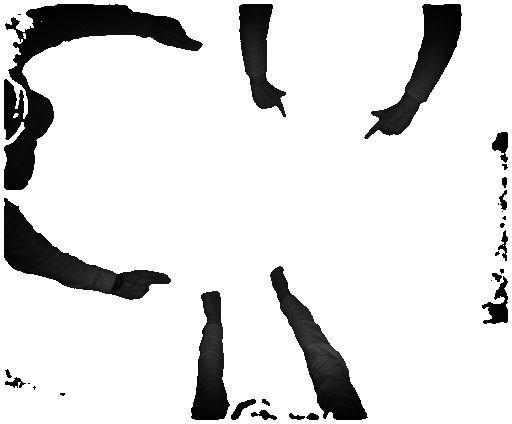fist: (264, 264, 295, 294), (200, 288, 223, 319)
hand: (360, 103, 418, 143), (117, 264, 175, 303), (155, 15, 207, 55), (249, 80, 287, 119)
